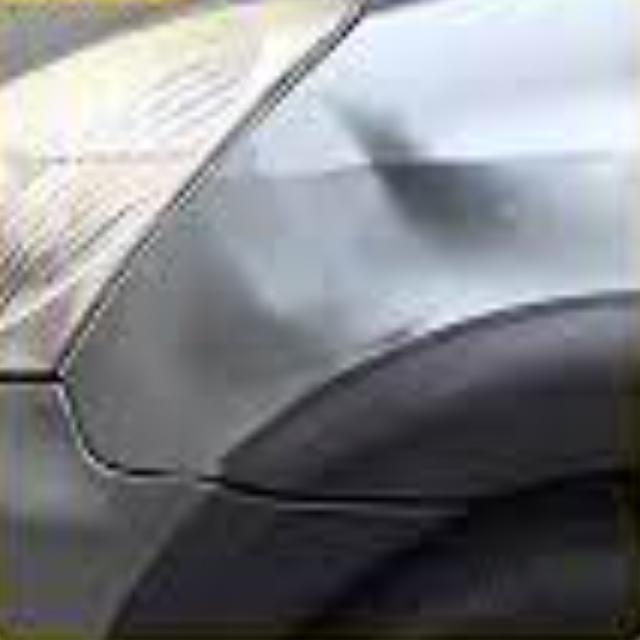dents: (283, 88, 608, 304)
